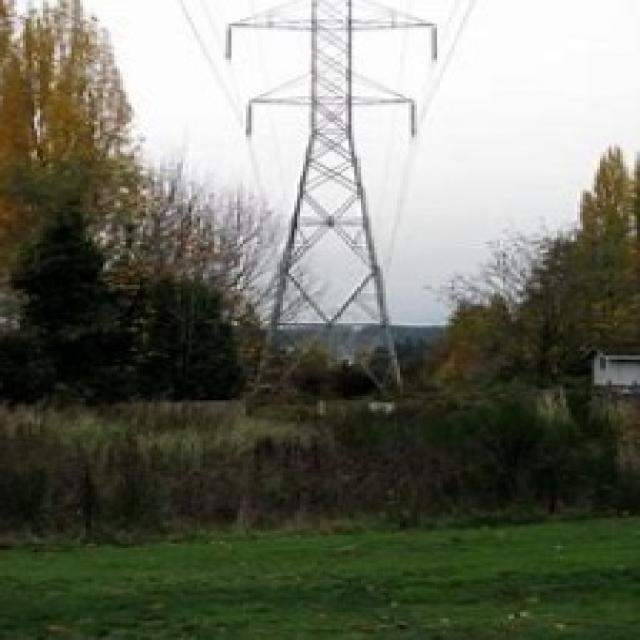utility poles: (182, 185, 319, 398), (339, 252, 504, 409)
